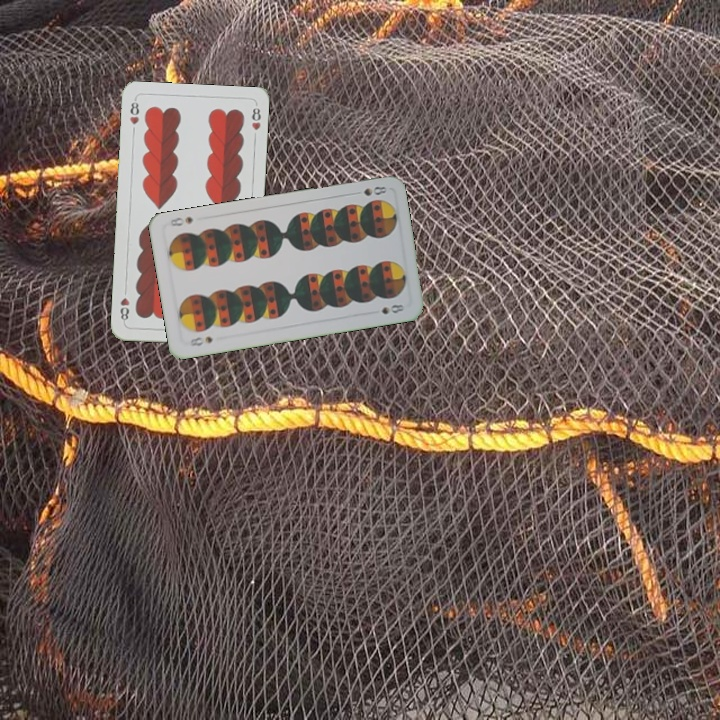H8: (126, 96, 142, 127)
S8: (186, 332, 215, 349), (360, 182, 389, 198)
